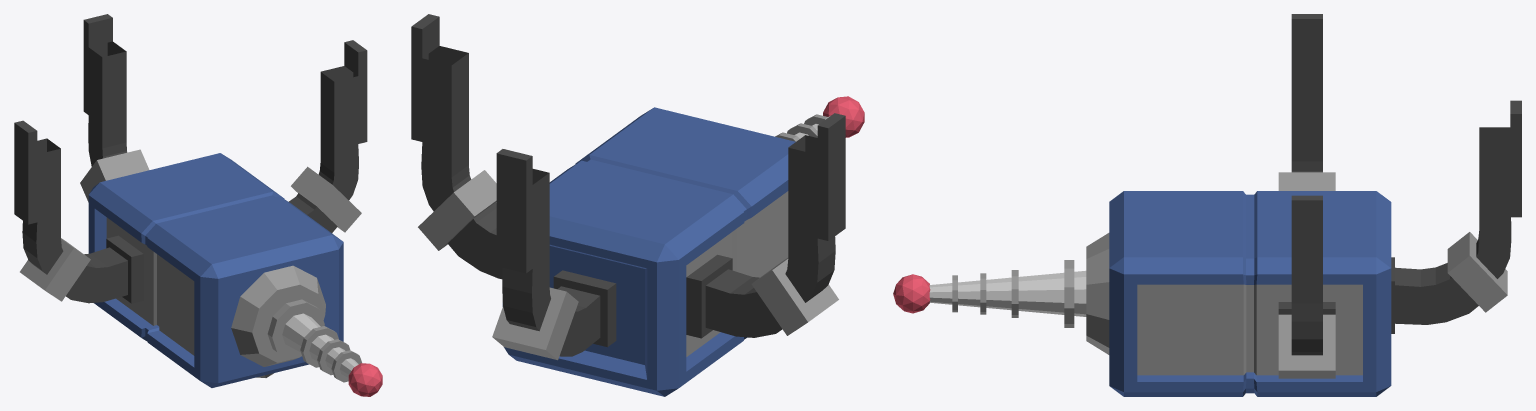
The model's file is Laser Nave.fbx.
3 views of the same model, side by side, from view 1: azimuth 30°, elevation 25°; view 2: azimuth 150°, elevation 25°; view 3: azimuth 270°, elevation 25° (orthographic). The views are drawn at different scales.
Parts seen in each view (by area): view 1: Laser Nave; view 2: Laser Nave; view 3: Laser Nave.
Part boxes in pixels (<box>): Laser Nave: <box>14,14,382,396</box>; Laser Nave: <box>411,14,864,396</box>; Laser Nave: <box>893,14,1521,396</box>.
Bounding box in the file's own units: 364 × 246 × 519.
